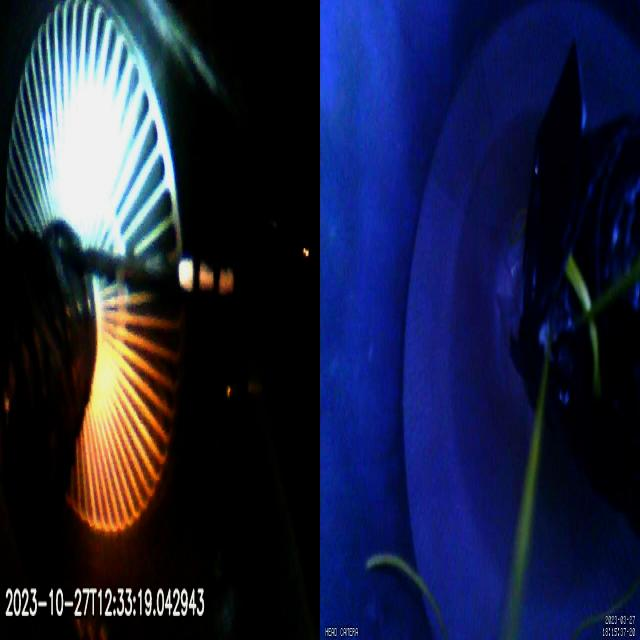white-dots: (177, 256, 235, 296)
